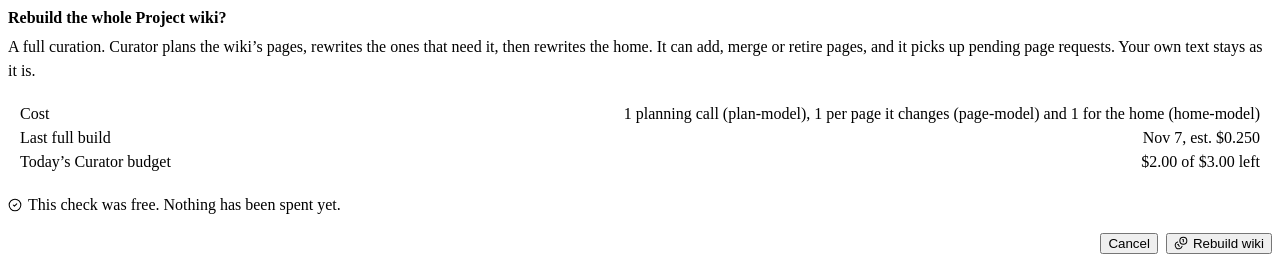
Scenario: starts once on confirm, follows the build and shows its result
The width and height of the screenshot is (1280, 271).
Later steps or results of the test are not shown.
Click the button "Rebuild wiki": x=1219, y=243 [1166,233,1272,254]
Wait 6000 ms
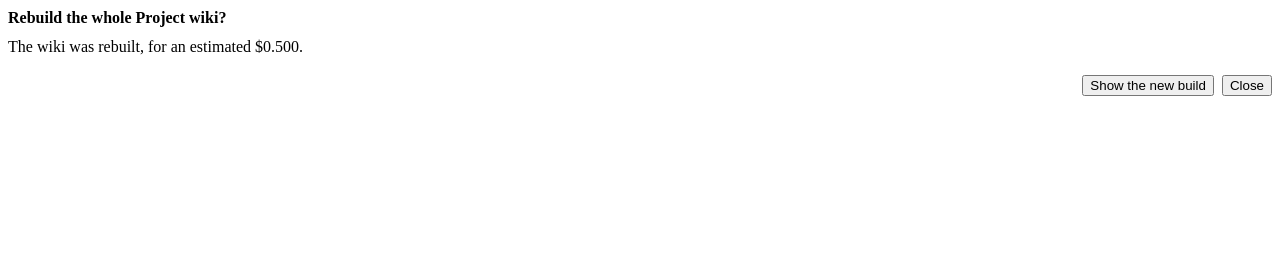
expect the text "The wiki was rebuilt, for an estimated $0.500." is shown: met, box [8,38,303,55]
